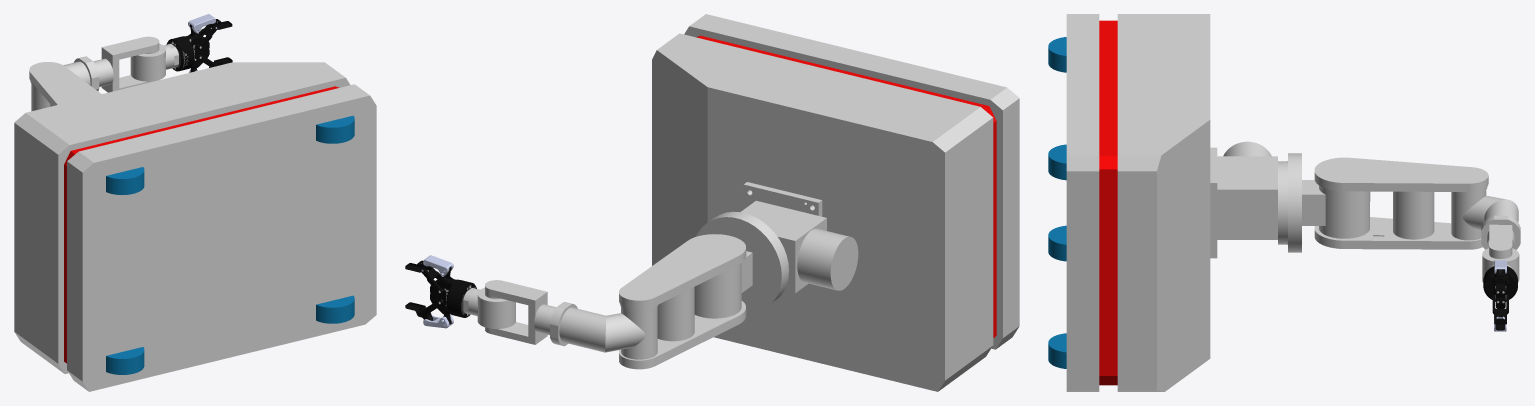
File: AGV+Gripper.fbx
3 views of the same model, side by side, from view 1: azimuth 30°, elevation 25°; view 2: azimuth 150°, elevation 25°; view 3: azimuth 270°, elevation 25° (orthographic). The views are drawn at different scales.
Parts seen in each view (by area): view 1: 2020 - 3D Printer Assist - SA - AGV\2020 - 3D Printer Assist, Dummy Mini Z Joint 2\Dummy Mini Z Joint 2, Dummy Mini Z Joint 4\Dummy Mini Z Joint 4, Dummy Mini Z Joint 5\Dummy Mini Z Joint 5, Defeatured 2F-85 PAD OPEN_base.step\NAUO1, Dummy Mini Z Joint 3\Dummy Mini Z Joint 3, 2020 - 3D Printer Assist - SA - AGV--1\2020 - 3D Printer Ass, 2020 - 3D Printer Assist - SA - AGV--2\2020 - 3D Printer Ass, 2020 - 3D Printer Assist - SA - AGV--3\2020 - 3D Printer Ass, 2020 - 3D Printer Assist - SA - AGV--4\2020 - 3D Printer Ass; view 2: 2020 - 3D Printer Assist - SA - AGV\2020 - 3D Printer Assist, Dummy Mini Z Joint 2\Dummy Mini Z Joint 2, Dummy Mini Z Base\Dummy Mini Z Base, Dummy Mini Z Joint 1\Dummy Mini Z Joint 1, Dummy Mini Z Joint 3\Dummy Mini Z Joint 3, Dummy Mini Z Joint 4\Dummy Mini Z Joint 4, Dummy Mini Z Joint 5\Dummy Mini Z Joint 5, Defeatured 2F-85 PAD OPEN_base.step\NAUO1; view 3: 2020 - 3D Printer Assist - SA - AGV\2020 - 3D Printer Assist, Dummy Mini Z Joint 2\Dummy Mini Z Joint 2, Dummy Mini Z Base\Dummy Mini Z Base, Dummy Mini Z Joint 1\Dummy Mini Z Joint 1, Dummy Mini Z Joint 3\Dummy Mini Z Joint 3, Dummy Mini Z Joint 4\Dummy Mini Z Joint 4, Defeatured 2F-85 PAD OPEN_base.step\NAUO1, 2020 - 3D Printer Assist - SA - AGV--2\2020 - 3D Printer Ass, 2020 - 3D Printer Assist - SA - AGV--4\2020 - 3D Printer Ass, 2020 - 3D Printer Assist - SA - AGV--1\2020 - 3D Printer Ass, 2020 - 3D Printer Assist - SA - AGV--3\2020 - 3D Printer Ass, Dummy Mini Z Joint 5\Dummy Mini Z Joint 5.
Part boxes in pixels (<box>): 2020 - 3D Printer Assist - SA - AGV\2020 - 3D Printer Assist: <box>14,62,376,391</box>; Dummy Mini Z Joint 2\Dummy Mini Z Joint 2: <box>29,62,101,106</box>; Dummy Mini Z Joint 4\Dummy Mini Z Joint 4: <box>93,36,159,92</box>; Dummy Mini Z Joint 5\Dummy Mini Z Joint 5: <box>130,43,178,81</box>; Defeatured 2F-85 PAD OPEN_base.step\NAUO1: <box>166,33,209,71</box>; Dummy Mini Z Joint 3\Dummy Mini Z Joint 3: <box>31,56,99,111</box>; 2020 - 3D Printer Assist - SA - AGV--1\2020 - 3D Printer Ass: <box>316,115,354,143</box>; 2020 - 3D Printer Assist - SA - AGV--2\2020 - 3D Printer Ass: <box>316,295,354,323</box>; 2020 - 3D Printer Assist - SA - AGV--3\2020 - 3D Printer Ass: <box>106,347,144,374</box>; 2020 - 3D Printer Assist - SA - AGV--4\2020 - 3D Printer Ass: <box>106,167,144,194</box>; 2020 - 3D Printer Assist - SA - AGV\2020 - 3D Printer Assist: <box>652,14,1019,391</box>; Dummy Mini Z Joint 2\Dummy Mini Z Joint 2: <box>619,234,746,369</box>; Dummy Mini Z Base\Dummy Mini Z Base: <box>740,182,858,293</box>; Dummy Mini Z Joint 1\Dummy Mini Z Joint 1: <box>694,211,788,318</box>; Dummy Mini Z Joint 3\Dummy Mini Z Joint 3: <box>550,302,657,359</box>; Dummy Mini Z Joint 4\Dummy Mini Z Joint 4: <box>485,280,555,344</box>; Dummy Mini Z Joint 5\Dummy Mini Z Joint 5: <box>463,287,515,328</box>; Defeatured 2F-85 PAD OPEN_base.step\NAUO1: <box>430,276,476,317</box>; 2020 - 3D Printer Assist - SA - AGV\2020 - 3D Printer Assist: <box>1066,14,1210,391</box>; Dummy Mini Z Joint 2\Dummy Mini Z Joint 2: <box>1314,157,1488,249</box>; Dummy Mini Z Base\Dummy Mini Z Base: <box>1210,141,1286,258</box>; Dummy Mini Z Joint 1\Dummy Mini Z Joint 1: <box>1287,153,1370,252</box>; Dummy Mini Z Joint 3\Dummy Mini Z Joint 3: <box>1451,190,1520,249</box>; Dummy Mini Z Joint 4\Dummy Mini Z Joint 4: <box>1487,224,1514,258</box>; Defeatured 2F-85 PAD OPEN_base.step\NAUO1: <box>1483,266,1517,308</box>; 2020 - 3D Printer Assist - SA - AGV--2\2020 - 3D Printer Ass: <box>1048,333,1066,368</box>; 2020 - 3D Printer Assist - SA - AGV--4\2020 - 3D Printer Ass: <box>1048,37,1066,72</box>; 2020 - 3D Printer Assist - SA - AGV--1\2020 - 3D Printer Ass: <box>1048,144,1066,180</box>; 2020 - 3D Printer Assist - SA - AGV--3\2020 - 3D Printer Ass: <box>1048,225,1066,261</box>; Dummy Mini Z Joint 5\Dummy Mini Z Joint 5: <box>1482,248,1519,282</box>.
Bounding box in the file's own units: 929 × 1021 × 570.
